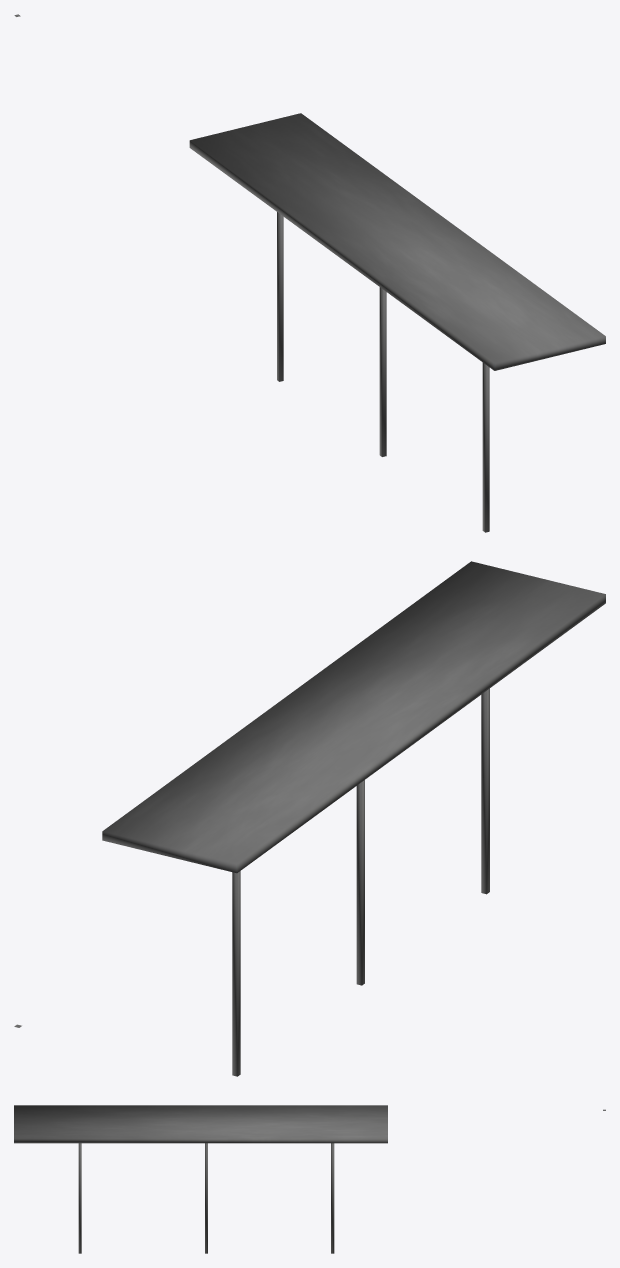
The model's file is base_platform.glb.
3 renders of one model, top to bottom at view 1: azimuth 30°, elevation 25°; view 2: azimuth 150°, elevation 25°; view 3: azimuth 270°, elevation 25°, orthographic. The views are drawn at different scales.
Visible parts, largest first — view 1: Plane.003; view 2: Plane.003; view 3: Plane.003.
Boxes of the visible parts, left/top/right/bottom form: Plane.003: left=14, top=14, right=605, bottom=532; Plane.003: left=14, top=561, right=605, bottom=1076; Plane.003: left=14, top=1105, right=605, bottom=1253.
Bounding box in the file's own units: 5 × 9.36 × 37.51.
1 material, 1 textured.
